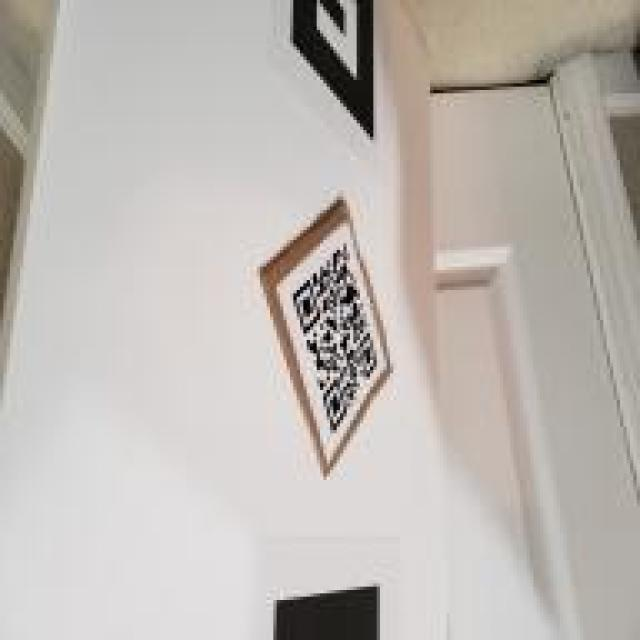QR_CODE: (284, 234, 384, 444)
